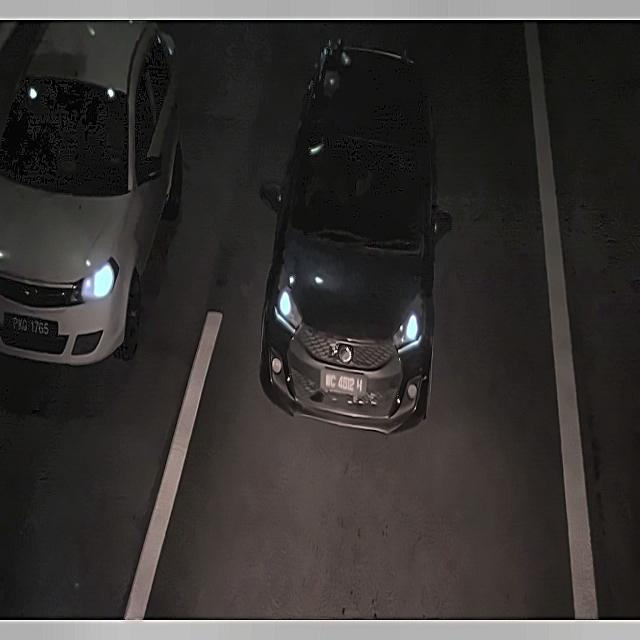car: (316, 361, 372, 404)
